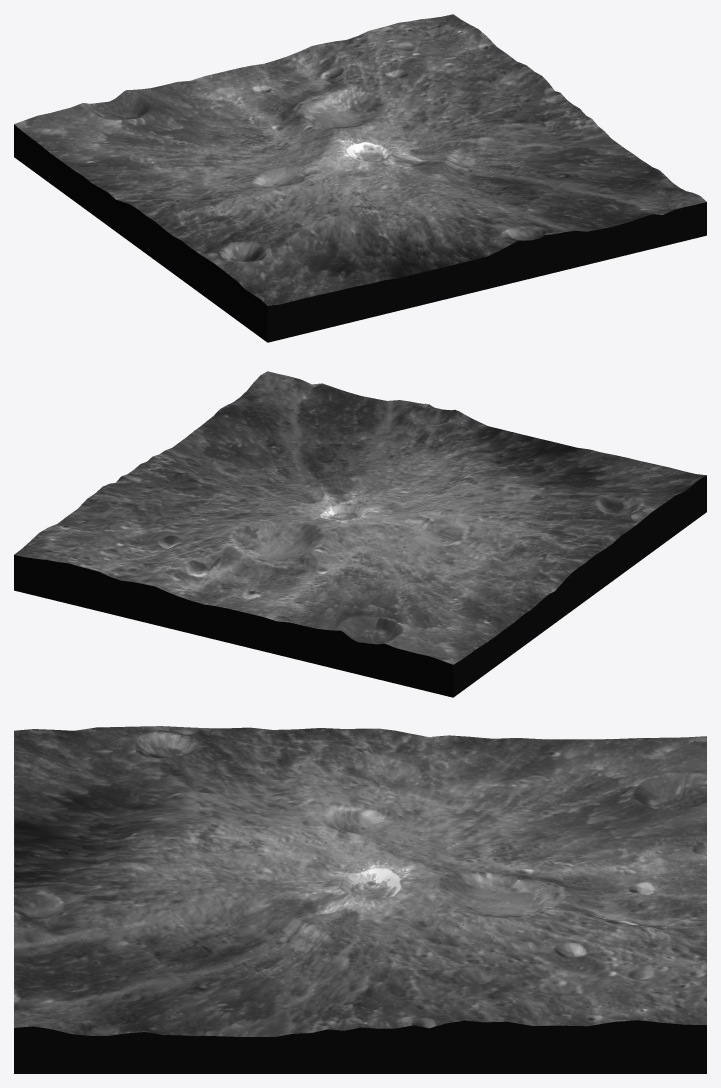
File: moon_surface.obj
3 views of the same model, one above another, from view 1: azimuth 30°, elevation 25°; view 2: azimuth 150°, elevation 25°; view 3: azimuth 270°, elevation 25° (orthographic). The views are drawn at different scales.
Visible parts, largest first — view 1: Bruno_LP_1_0, Bruno_LP_2_0; view 2: Bruno_LP_1_0, Bruno_LP_2_0; view 3: Bruno_LP_1_0, Bruno_LP_2_0.
Boxes of the visible parts, x1=… form: Bruno_LP_1_0: x1=14, y1=14, x2=706, y2=305; Bruno_LP_2_0: x1=14, y1=124, x2=706, y2=342; Bruno_LP_1_0: x1=14, y1=371, x2=706, y2=664; Bruno_LP_2_0: x1=14, y1=475, x2=706, y2=697; Bruno_LP_1_0: x1=14, y1=726, x2=706, y2=1036; Bruno_LP_2_0: x1=14, y1=1020, x2=706, y2=1073.
Size of the model in its own units: 2999 by 295 by 2999.
